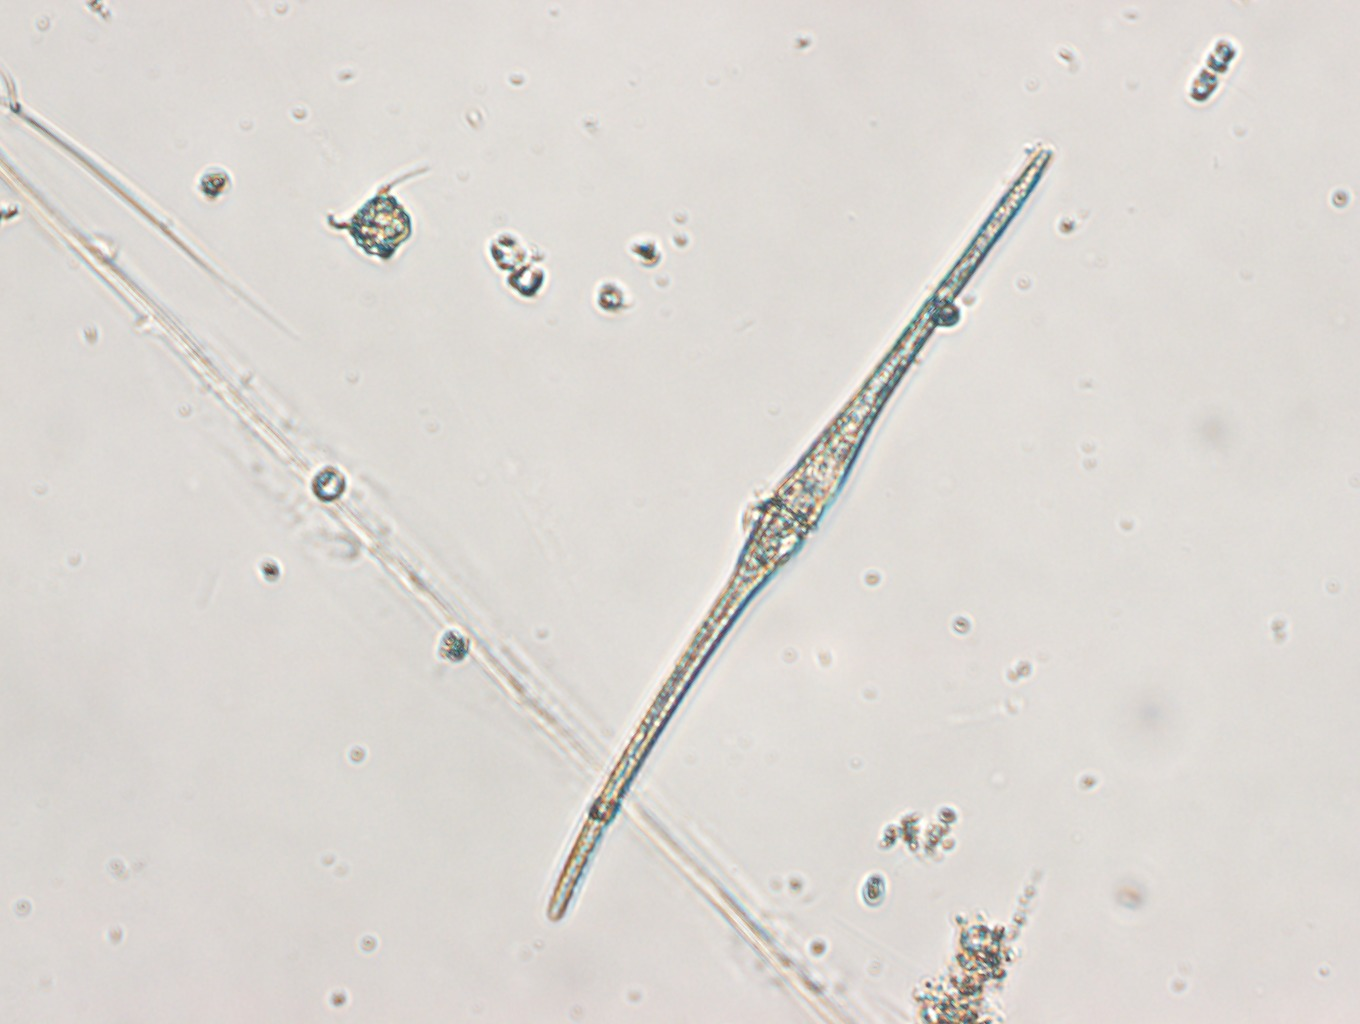ceratium fusus: (541, 142, 1054, 928)
